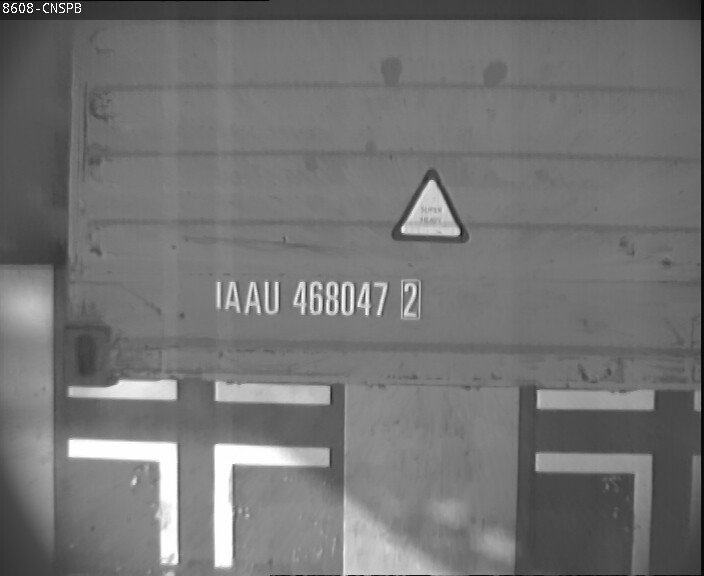groundmarker_1: (67, 437, 326, 567)
